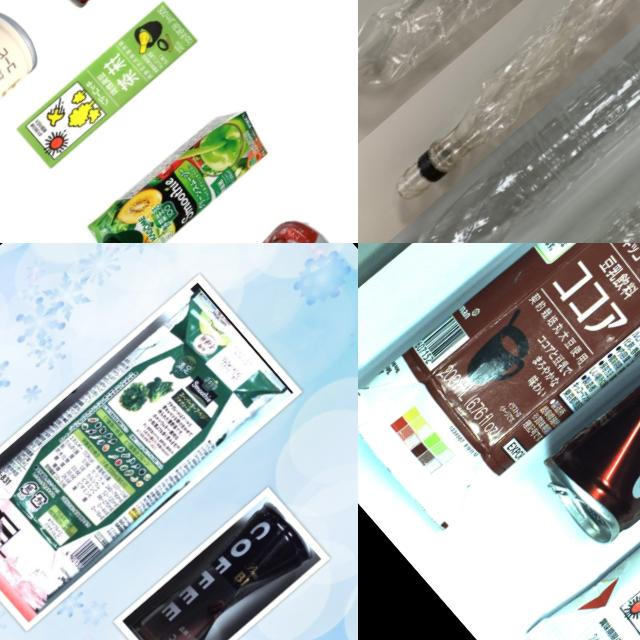Aluminium Foil: (0, 284, 293, 620), (358, 243, 640, 537), (510, 251, 640, 640), (9, 0, 202, 172), (66, 96, 278, 243)
Can: (526, 243, 640, 563), (119, 493, 320, 640), (136, 192, 356, 243), (0, 0, 52, 212)
Transparent Plastic Bottle: (358, 0, 640, 243), (358, 0, 640, 216), (424, 24, 640, 243), (358, 0, 640, 164), (486, 85, 640, 243)
